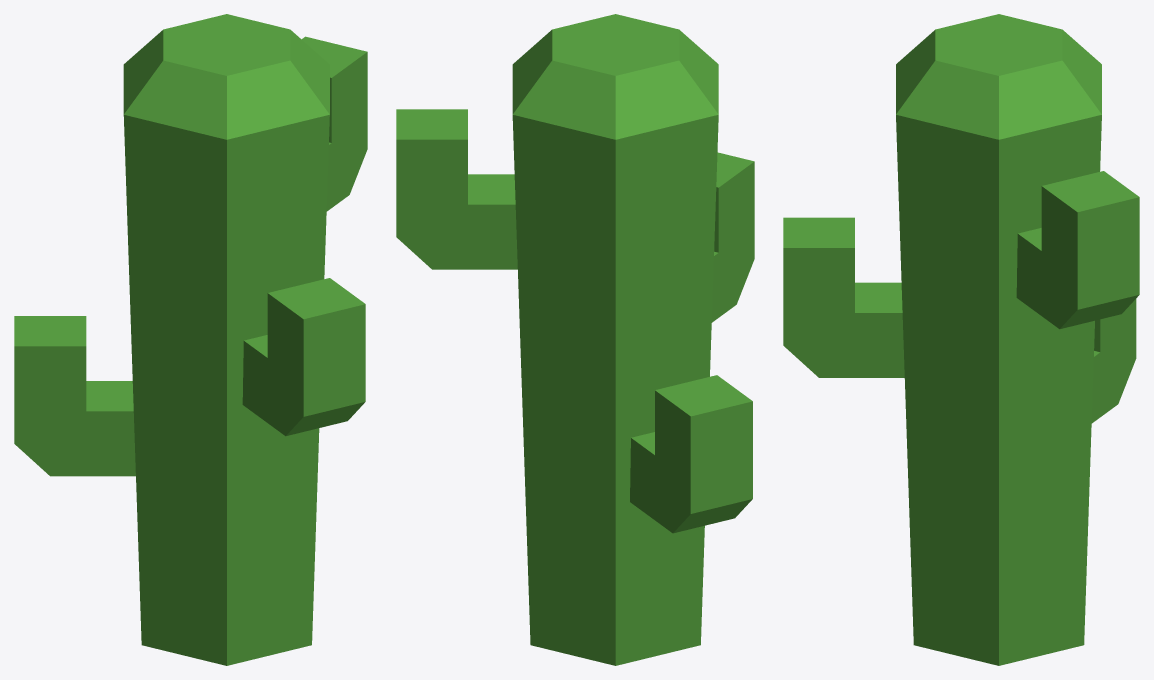
Rendered from nk_cactus_short.glb.
3 renders of one model, left to right at view 1: azimuth 30°, elevation 25°; view 2: azimuth 150°, elevation 25°; view 3: azimuth 270°, elevation 25°, orthographic.
Visible parts, largest first — view 1: cactus_short; view 2: cactus_short; view 3: cactus_short.
Boxes of the visible parts, x1,y1,x2,y2 form: cactus_short: (14,14,367,665); cactus_short: (396,14,754,665); cactus_short: (783,14,1139,665).
Size of the model in its own units: 1.54 by 2.4 by 1.34.
